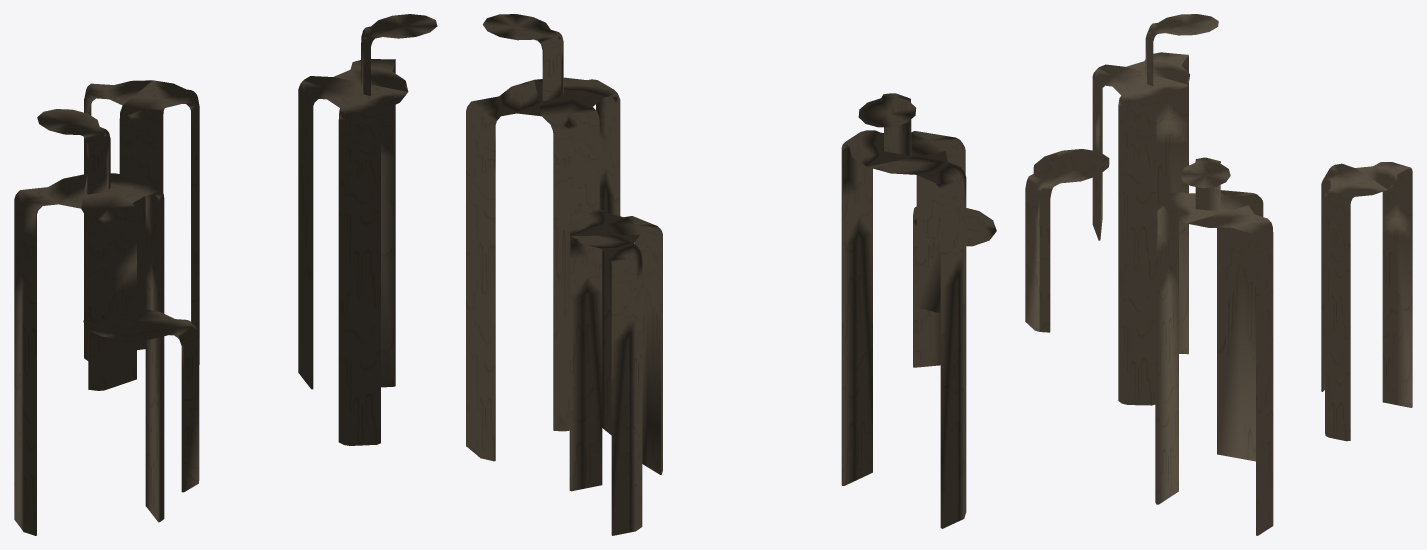
File: stg210_MotChocoB_20.obj
3 renders of one model, left to right at view 1: azimuth 30°, elevation 25°; view 2: azimuth 150°, elevation 25°; view 3: azimuth 270°, elevation 25°, orthographic. The views are drawn at different scales.
Parts seen in each view (by area): view 1: polygon0, polygon1, polygon2; view 2: polygon0, polygon1, polygon2; view 3: polygon0, polygon1, polygon2.
Boxes of the visible parts, <box> form: polygon0: <box>14,109,199,535</box>; polygon1: <box>298,14,437,445</box>; polygon2: <box>84,80,199,364</box>; polygon0: <box>841,93,996,528</box>; polygon1: <box>466,14,620,461</box>; polygon2: <box>567,209,662,535</box>; polygon0: <box>1025,14,1218,405</box>; polygon1: <box>1155,157,1273,535</box>; polygon2: <box>1321,162,1412,441</box>.
Size of the model in its own units: 2762 by 2366 by 2330.
Materials: 1 (1 with a texture image).
